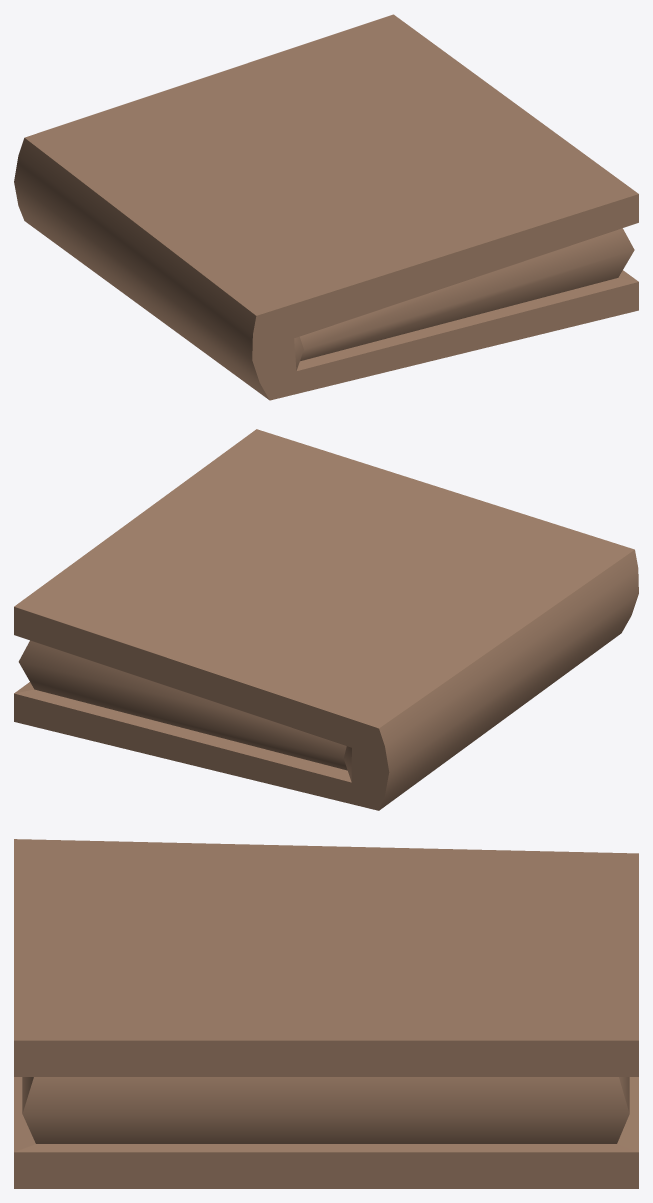
Rendered from mesh_libro2.fbx.
The picture shows the model from 3 angles, top to bottom: view 1: azimuth 30°, elevation 25°; view 2: azimuth 150°, elevation 25°; view 3: azimuth 270°, elevation 25°; orthographic projection. The views are drawn at different scales.
Visible parts, largest first — view 1: mesh_libro2; view 2: mesh_libro2; view 3: mesh_libro2.
Boxes of the visible parts, left/top/right/bottom form: mesh_libro2: left=14, top=14, right=638, bottom=400; mesh_libro2: left=14, top=429, right=638, bottom=810; mesh_libro2: left=14, top=839, right=638, bottom=1188.
Size of the model in its own units: 41.81 by 12.03 by 45.96.
